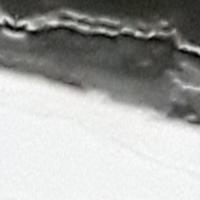crack: (0, 4, 199, 84)
